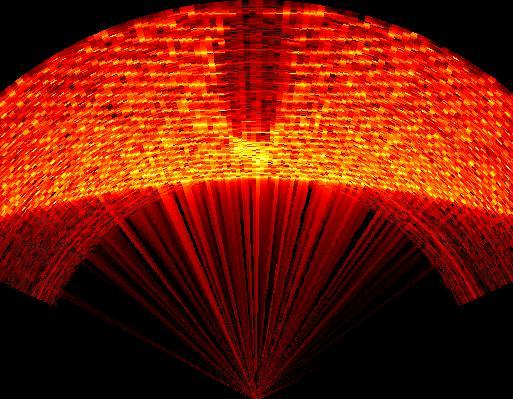box_crate: (211, 1, 289, 165)
